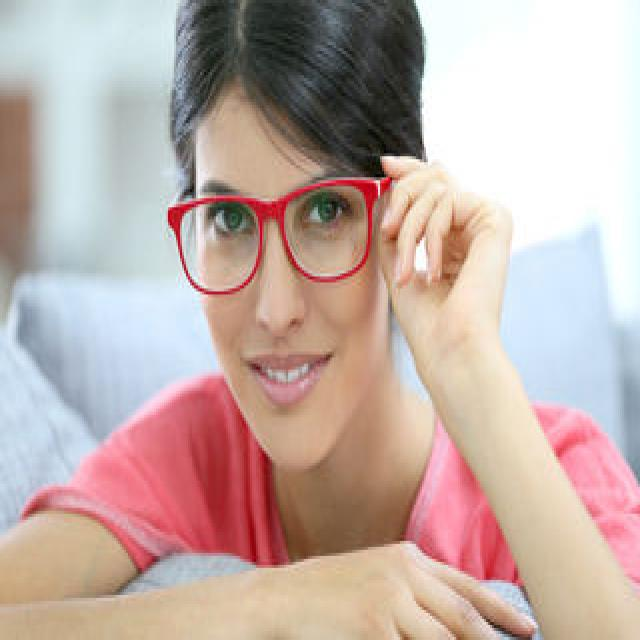Glasses: (166, 171, 394, 300)
